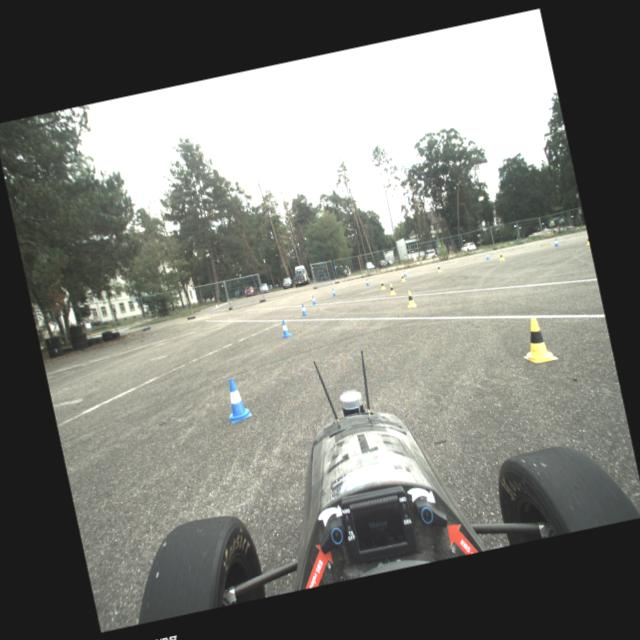blue_cone: (220, 376, 252, 424), (278, 318, 292, 338), (299, 302, 308, 315), (310, 294, 317, 305), (552, 237, 560, 246), (484, 252, 490, 260), (364, 278, 370, 286), (331, 287, 336, 296), (402, 269, 407, 277), (435, 262, 440, 270)
yellow_cone: (516, 313, 558, 366), (404, 290, 416, 308), (386, 282, 396, 295), (379, 278, 386, 290), (398, 273, 406, 282), (436, 263, 442, 272), (498, 251, 504, 260), (584, 237, 590, 244)
